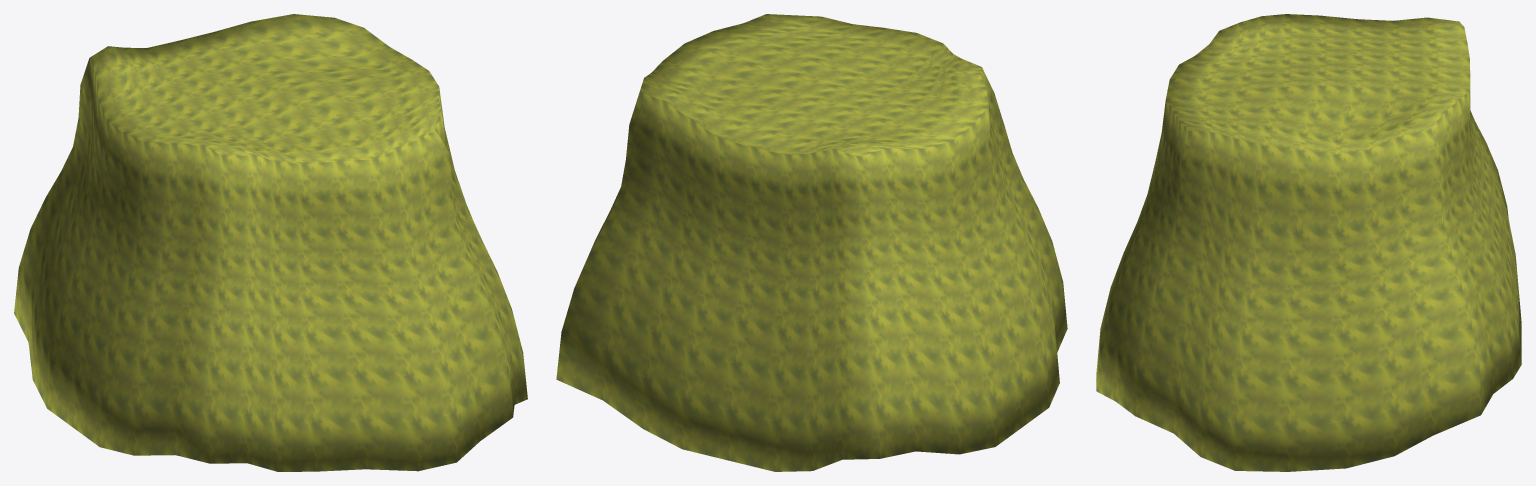
File: land.fbx
The picture shows the model from 3 angles, left to right: view 1: azimuth 30°, elevation 25°; view 2: azimuth 150°, elevation 25°; view 3: azimuth 270°, elevation 25°; orthographic projection. The views are drawn at different scales.
Visible parts, largest first — view 1: Cube; view 2: Cube; view 3: Cube.
Part boxes in pixels (bbox=[...]): Cube: bbox=[14, 14, 527, 471]; Cube: bbox=[556, 14, 1067, 471]; Cube: bbox=[1096, 14, 1521, 471].
Bounding box in the file's own units: 1206 × 914 × 1145.
Materials: 1 (1 with a texture image).
